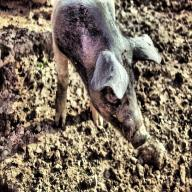boar: (51, 0, 162, 150)
